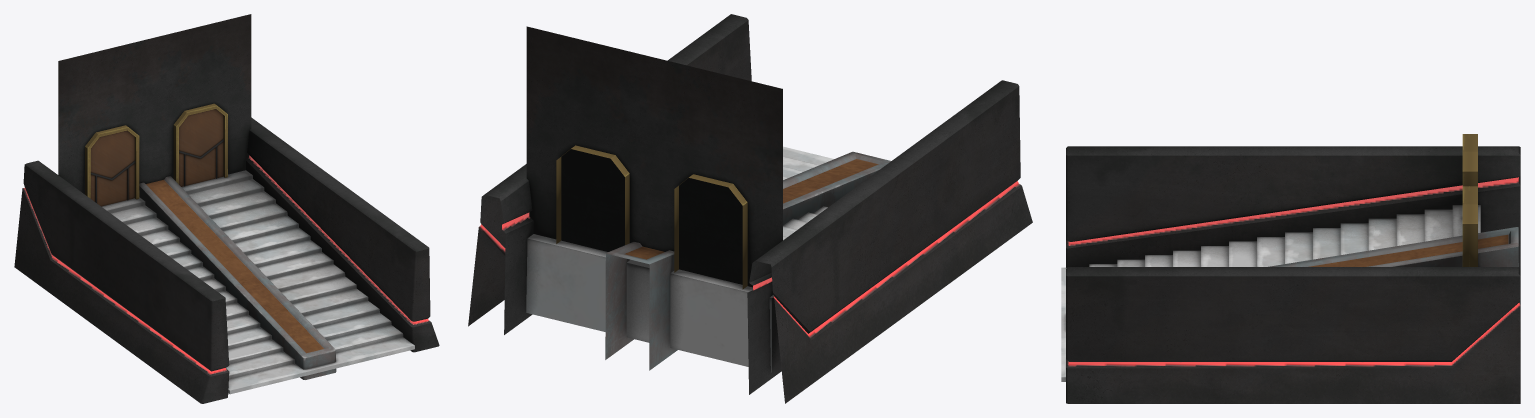
Rendered from OfficeEntrance.fbx.
3 renders of one model, left to right at view 1: azimuth 30°, elevation 25°; view 2: azimuth 150°, elevation 25°; view 3: azimuth 270°, elevation 25°, orthographic. The views are drawn at different scales.
Parts seen in each view (by area): view 1: OfficeEntrance; view 2: OfficeEntrance; view 3: OfficeEntrance.
Part boxes in pixels (x1,y1,x2,y2): OfficeEntrance: (14, 14, 439, 403); OfficeEntrance: (468, 14, 1032, 403); OfficeEntrance: (1061, 134, 1520, 403).
Bounding box in the file's own units: 21.28 × 18.56 × 29.24.
